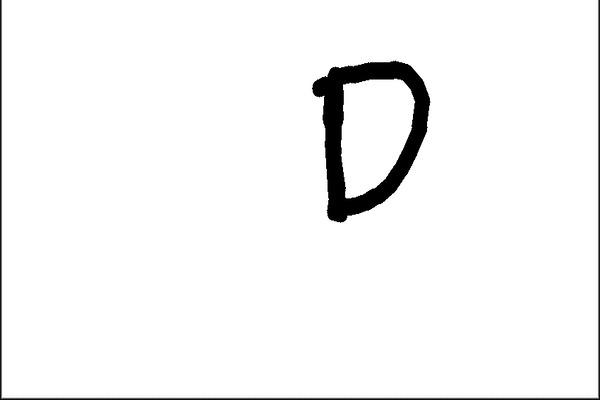D: (306, 54, 434, 227)
